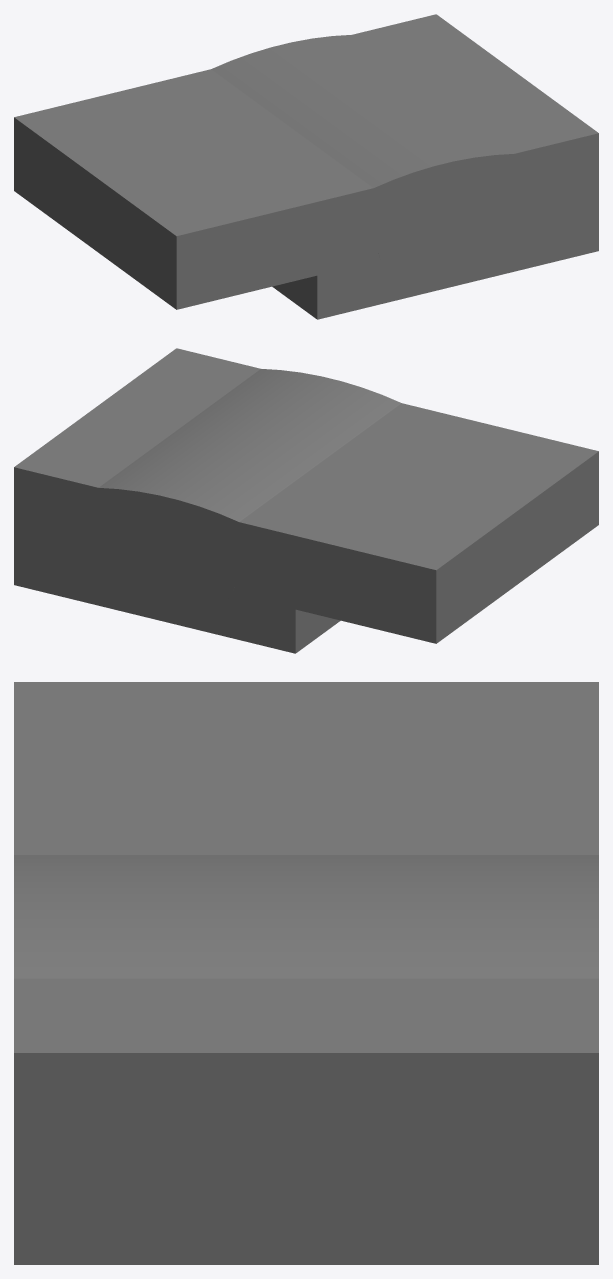
3 renders of one model, top to bottom at view 1: azimuth 30°, elevation 25°; view 2: azimuth 150°, elevation 25°; view 3: azimuth 270°, elevation 25°, orthographic. The views are drawn at different scales.
Visible parts, largest first — view 1: mesh_id4, mesh_id5; view 2: mesh_id4, mesh_id5; view 3: mesh_id4, mesh_id5.
Part boxes in pixels (x1,y1,x2,y2): mesh_id4: (14, 14, 598, 319); mesh_id5: (211, 35, 514, 271); mesh_id4: (14, 348, 598, 653); mesh_id5: (98, 369, 401, 605); mesh_id4: (14, 682, 598, 1264); mesh_id5: (14, 855, 598, 978).
Bounding box in the file's own units: 0.512 × 0.1449 × 0.3413.
2 materials, 2 textured.
